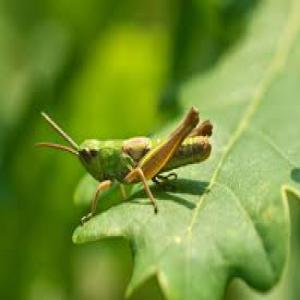locust: (33, 81, 227, 224)
